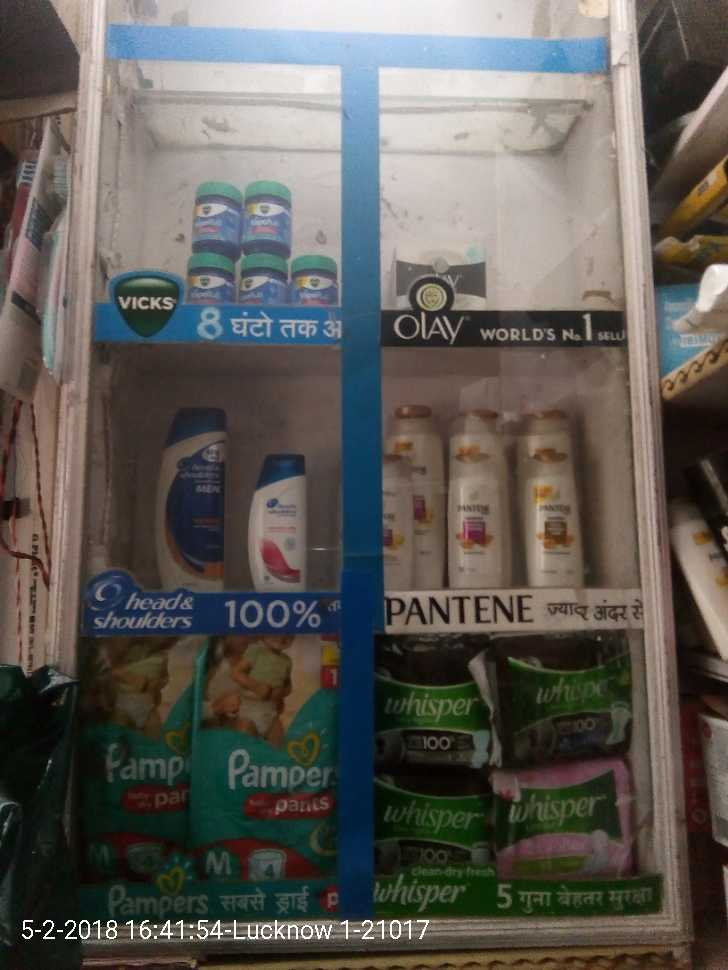vicks: (177, 168, 338, 311)
